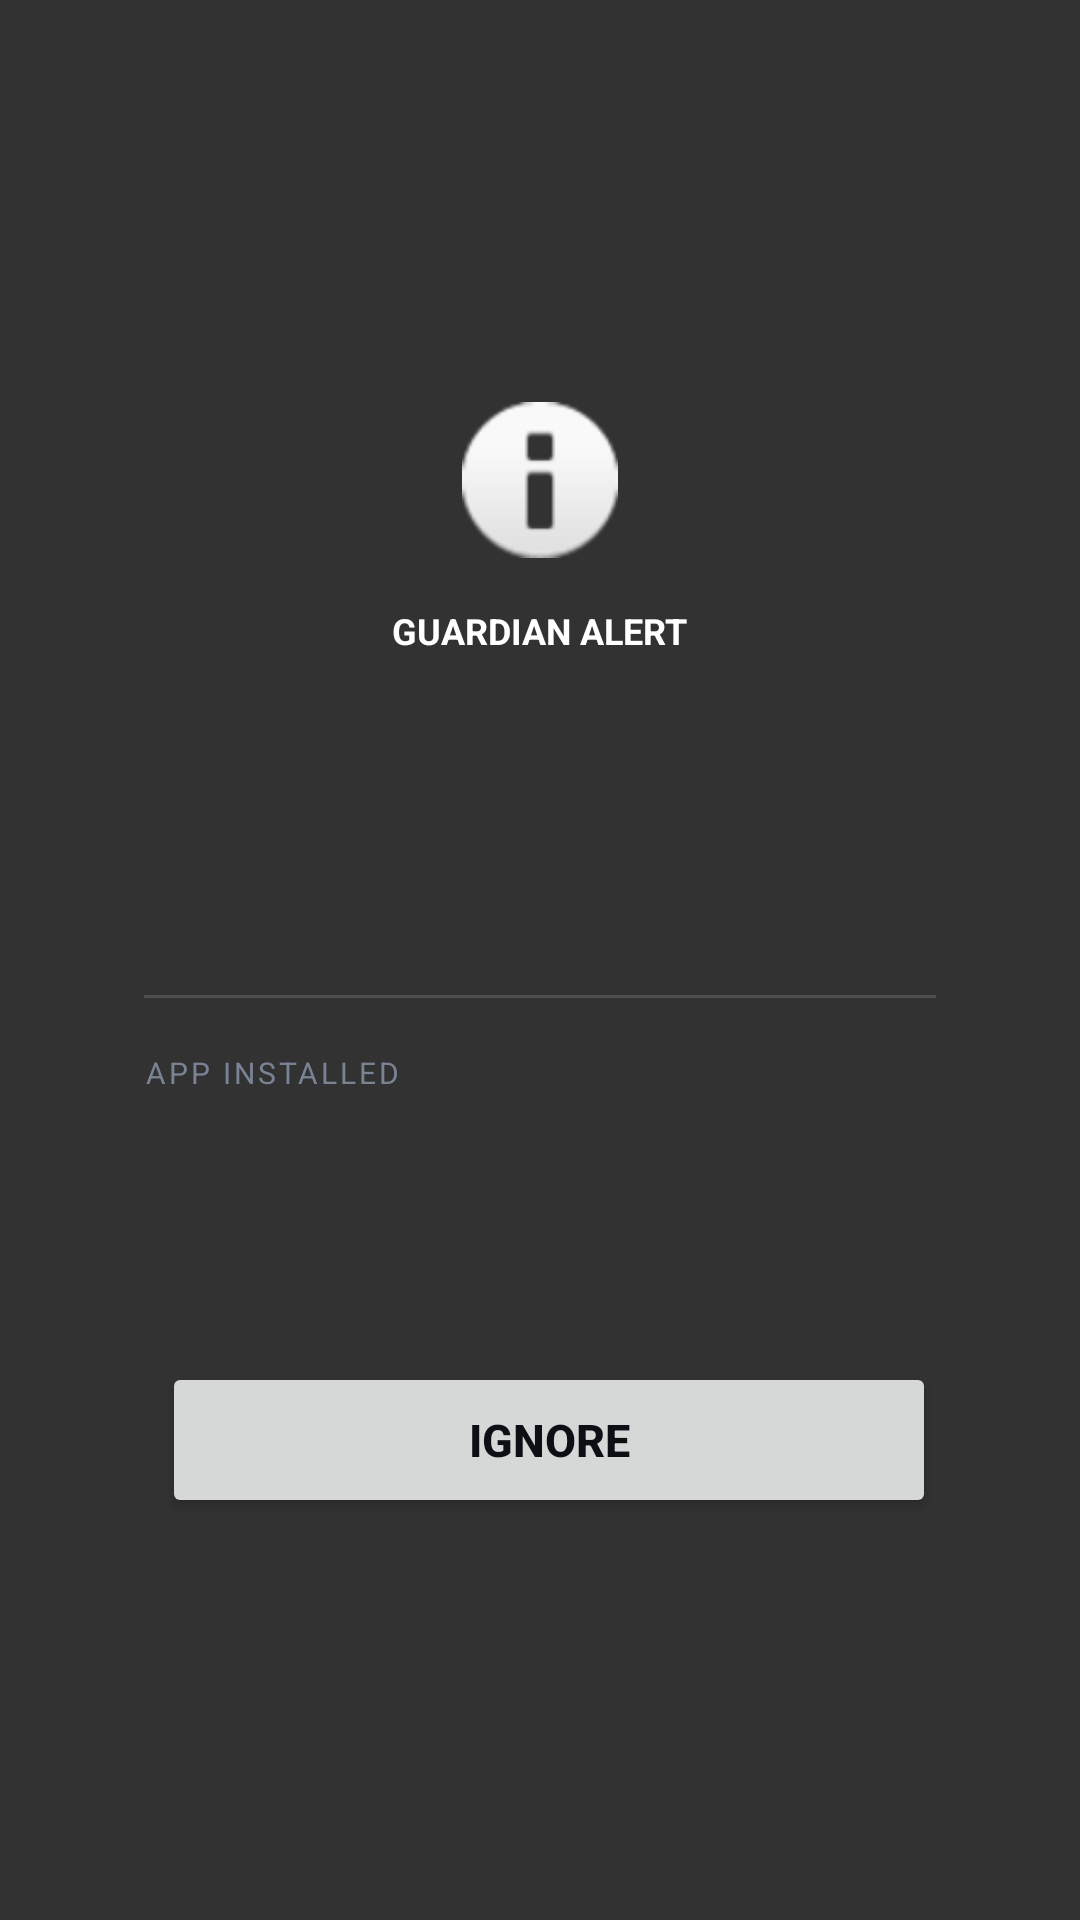

Named icons in this screenshot (1080x1920) and their bounding boxes, box=[x1, y1, x2, y2]:
info: box=[462, 402, 618, 558]
